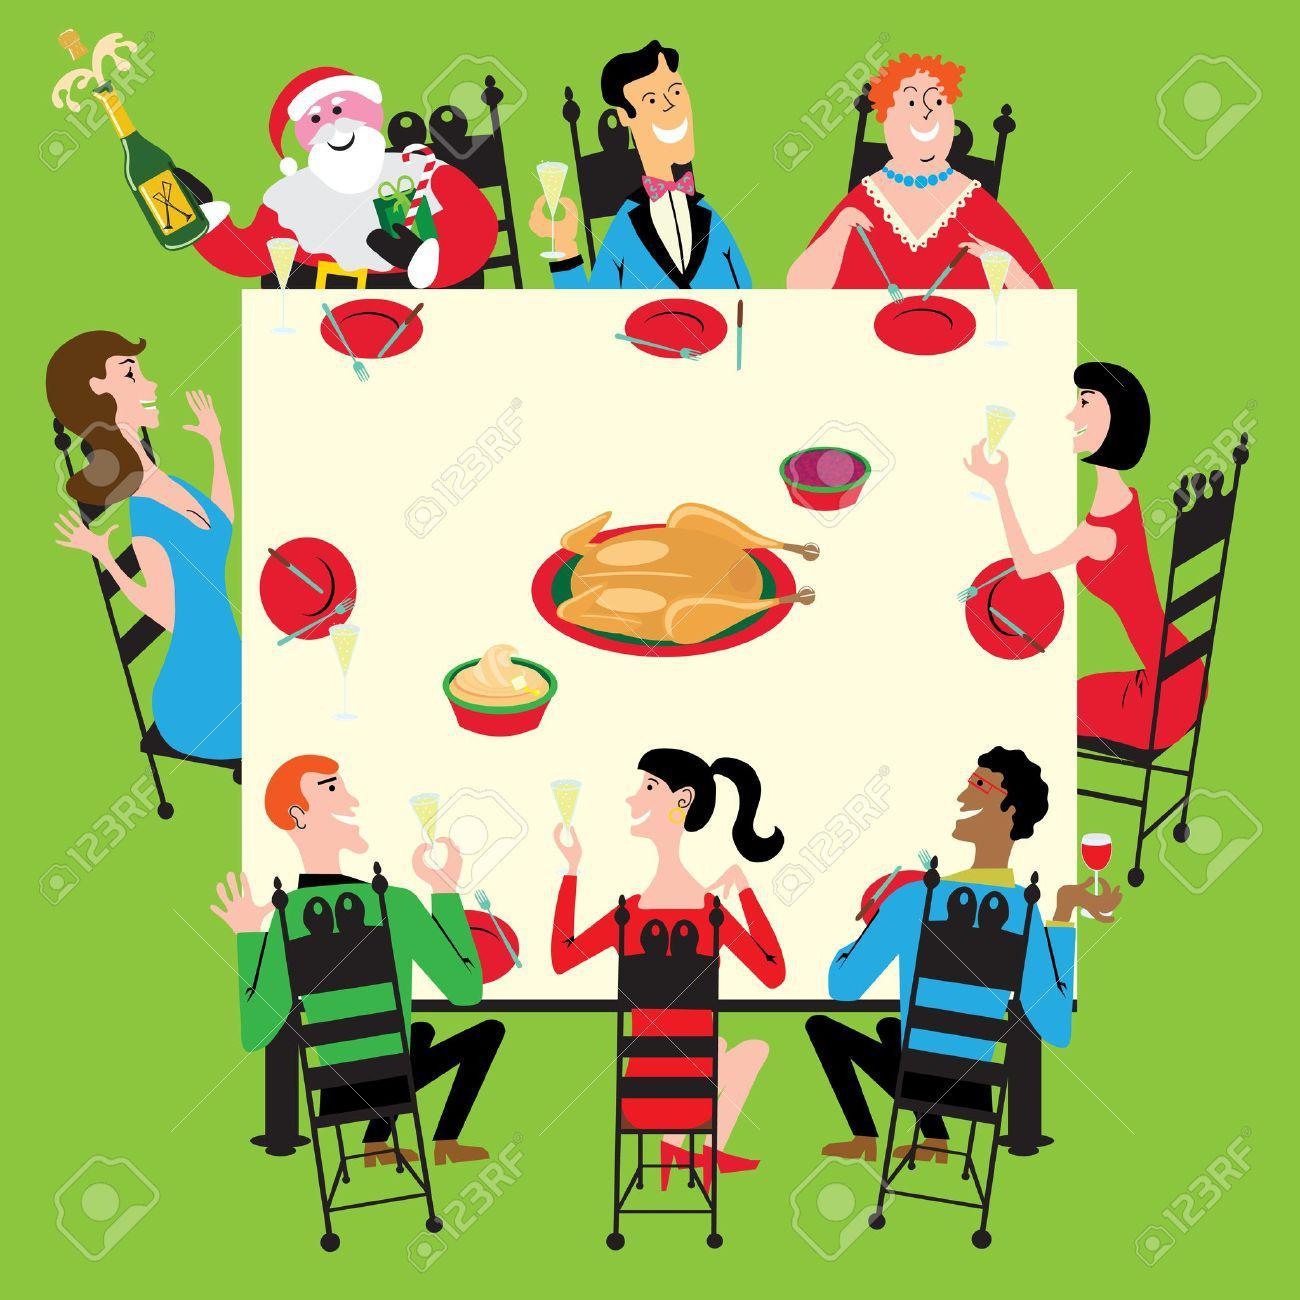bottle: (78, 79, 232, 268)
chair: (23, 396, 245, 833), (1063, 431, 1262, 903), (228, 872, 454, 1264), (867, 838, 1049, 1253), (576, 881, 754, 1266)
diningtable: (199, 264, 1108, 1192)
person: (500, 718, 821, 1190), (182, 740, 508, 1192), (800, 709, 1087, 1188), (939, 342, 1230, 785), (17, 320, 254, 766), (184, 55, 506, 292), (773, 40, 1056, 294), (534, 38, 763, 288)
